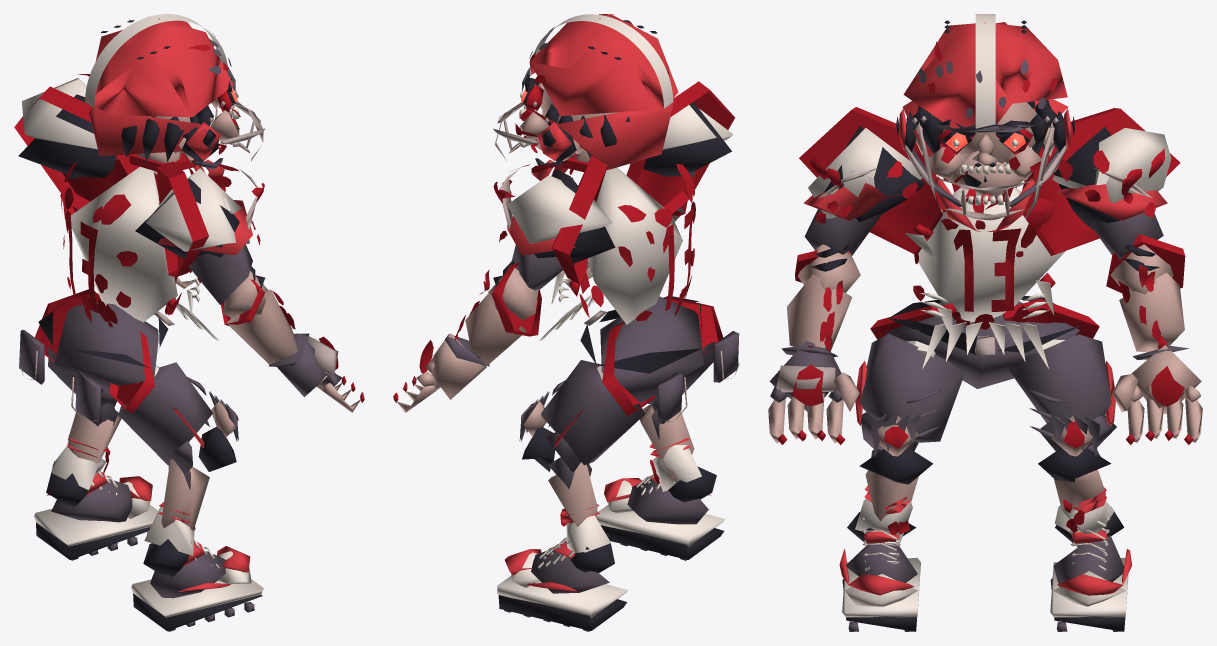
The model's file is inf.armored-football.lod2.glb.
The picture shows the model from 3 angles, left to right: view 1: azimuth 30°, elevation 25°; view 2: azimuth 150°, elevation 25°; view 3: azimuth 270°, elevation 25°; orthographic projection. The views are drawn at different scales.
Parts seen in each view (by area): view 1: head, torso, hip, footR, armR, footL, legR, armL, shinR, foreArmR, shinL, stump_armL (+6 smaller); view 2: head, torso, hip, footL, footR, armL, legL, shinL, foreArmL, armR, stump_armR, shinR (+6 smaller); view 3: head, torso, armL, armR, legR, legL, footL, footR, handR, handL, hip, foreArmL (+8 smaller).
Boxes of the visible parts, x1=… form: head: x1=85, y1=14, x2=265, y2=174; torso: x1=61, y1=159, x2=224, y2=340; hip: x1=18, y1=301, x2=174, y2=425; footR: x1=131, y1=539, x2=263, y2=631; armR: x1=135, y1=164, x2=264, y2=304; footL: x1=34, y1=461, x2=158, y2=560; legR: x1=118, y1=362, x2=238, y2=464; armL: x1=18, y1=74, x2=118, y2=179; shinR: x1=144, y1=426, x2=236, y2=555; foreArmR: x1=223, y1=270, x2=309, y2=367; shinL: x1=52, y1=390, x2=121, y2=490; stump_armL: x1=14, y1=86, x2=139, y2=209; head: x1=493, y1=14, x2=678, y2=169; torso: x1=532, y1=160, x2=695, y2=340; hip: x1=580, y1=296, x2=739, y2=423; footL: x1=497, y1=533, x2=628, y2=631; footR: x1=596, y1=466, x2=725, y2=560; armL: x1=493, y1=164, x2=615, y2=290; legL: x1=519, y1=360, x2=644, y2=465; shinL: x1=522, y1=427, x2=610, y2=553; foreArmL: x1=445, y1=268, x2=538, y2=366; armR: x1=643, y1=93, x2=733, y2=176; stump_armR: x1=626, y1=81, x2=735, y2=213; shinR: x1=640, y1=397, x2=701, y2=491; head: x1=896, y1=14, x2=1074, y2=220; torso: x1=905, y1=176, x2=1065, y2=368; armL: x1=1052, y1=127, x2=1171, y2=271; armR: x1=803, y1=125, x2=924, y2=271; legR: x1=855, y1=334, x2=964, y2=457; legL: x1=1006, y1=334, x2=1115, y2=457; footL: x1=1050, y1=507, x2=1132, y2=631; footR: x1=839, y1=512, x2=920, y2=631; handR: x1=768, y1=341, x2=859, y2=445; handL: x1=1112, y1=345, x2=1202, y2=445; hip: x1=885, y1=296, x2=1081, y2=388; foreArmL: x1=1110, y1=244, x2=1189, y2=359.
Size of the model in its own units: 0.6666 by 1.63 by 1.08.
